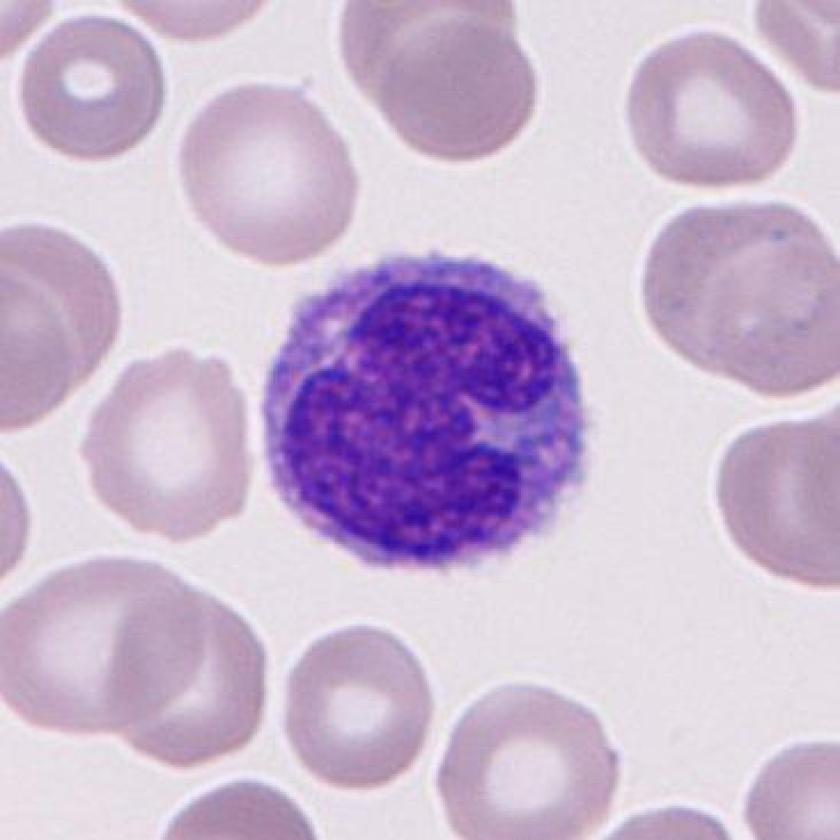monocyte: (258, 238, 609, 602)
